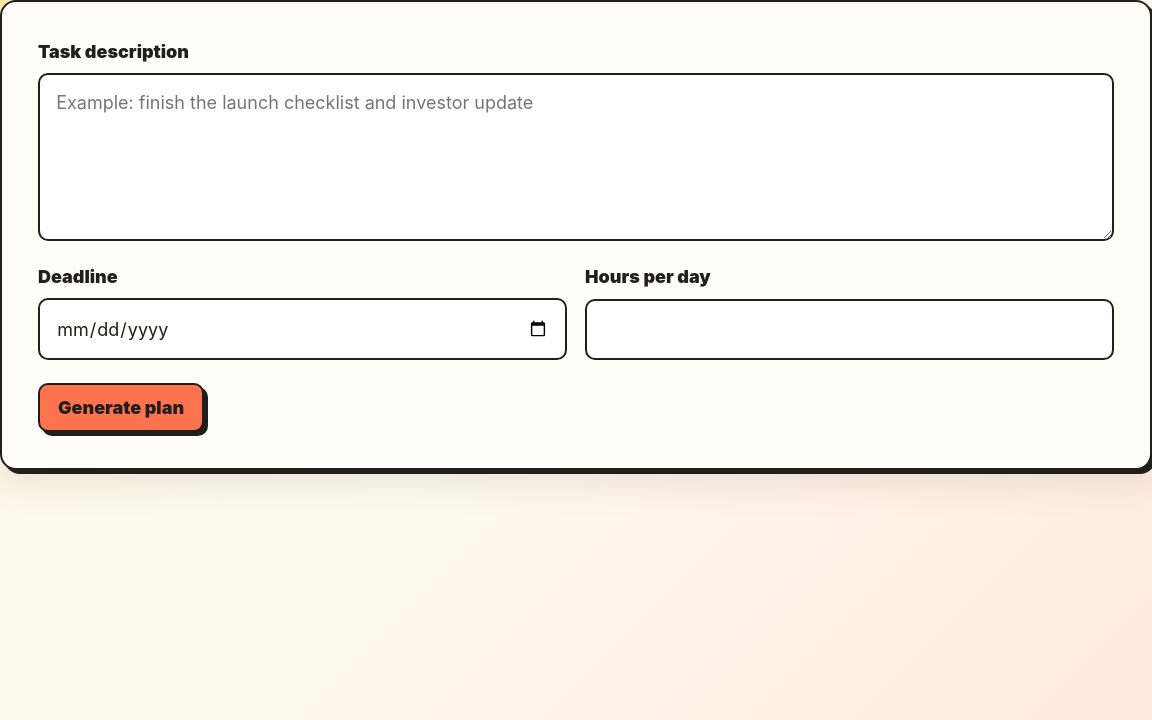
Test: TaskForm › lets users stop generation without clearing their input
Type "Ship the Deadline AI MVP" into the text box labelled "Task description" at (576, 157), box left=38, top=73, right=1114, bottom=241
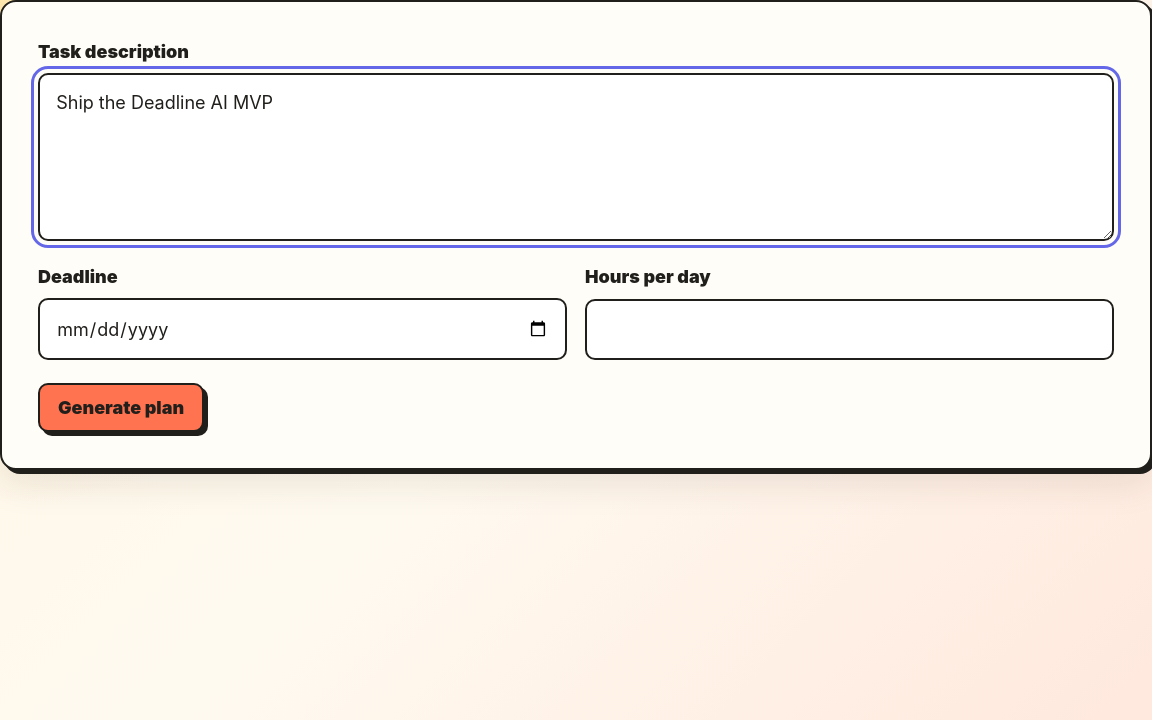
Type "2026-06-24" into the date field labelled "Deadline" at (302, 329), box left=38, top=298, right=567, bottom=360
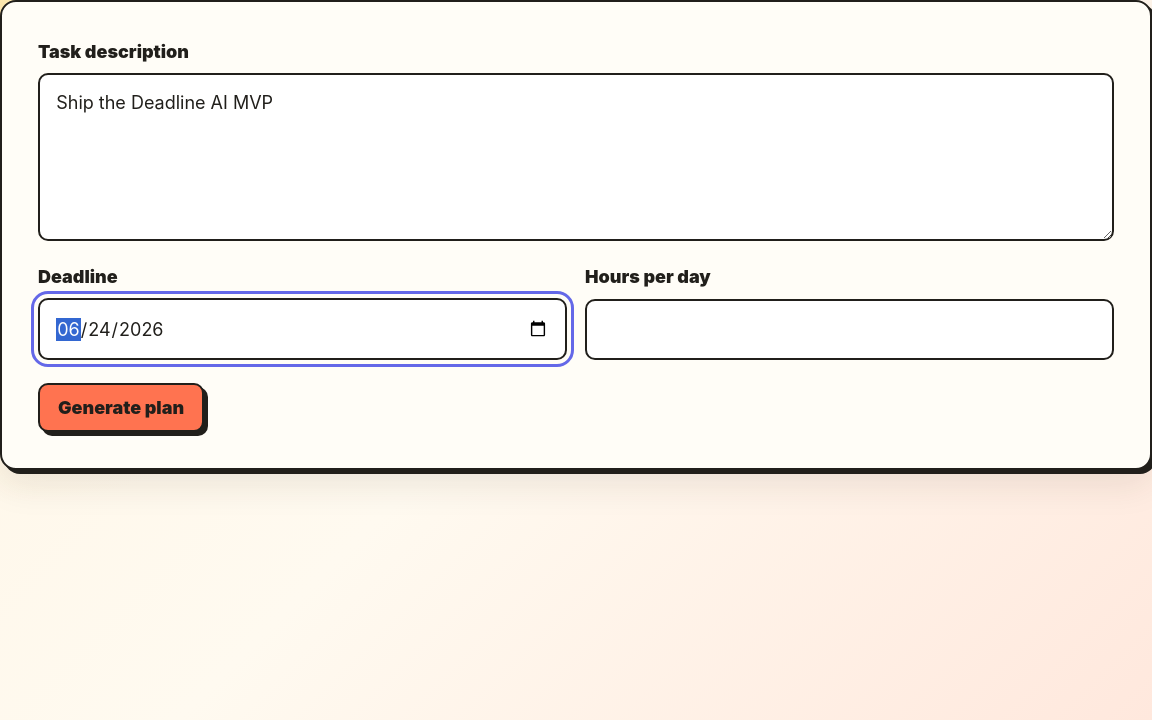
Type "2" into the number field labelled "Hours per day" at (850, 330), box left=585, top=300, right=1114, bottom=360
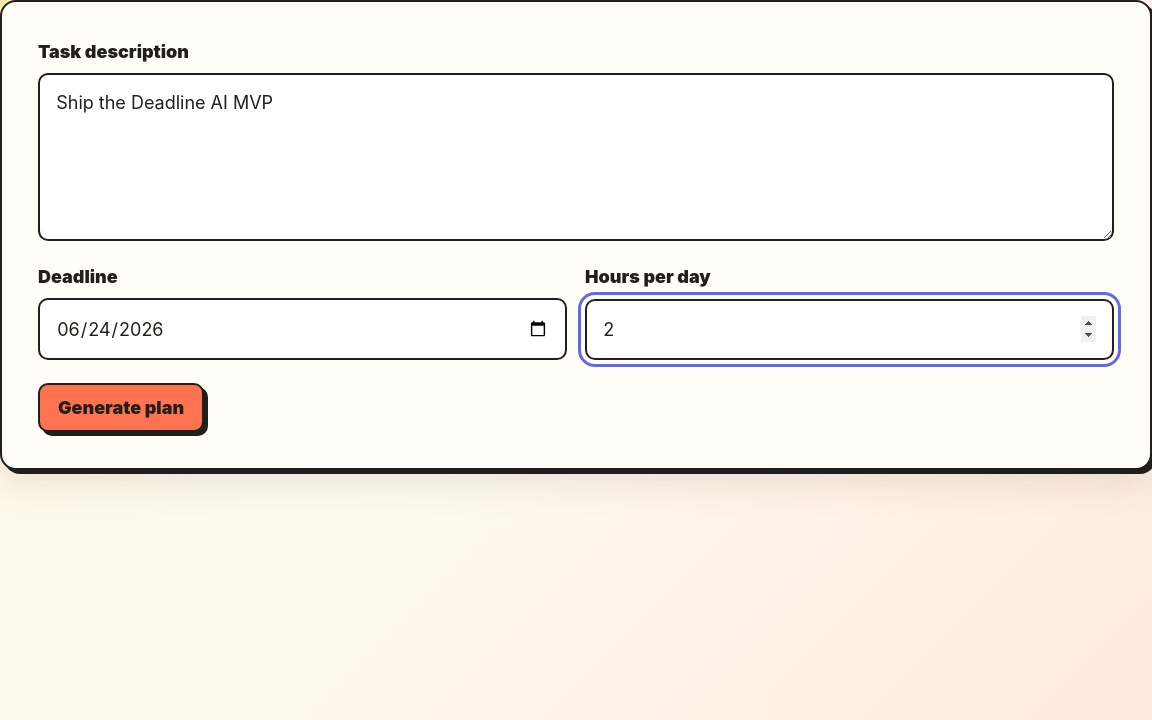
Click the button "Generate plan" at (121, 408), box left=38, top=383, right=204, bottom=432
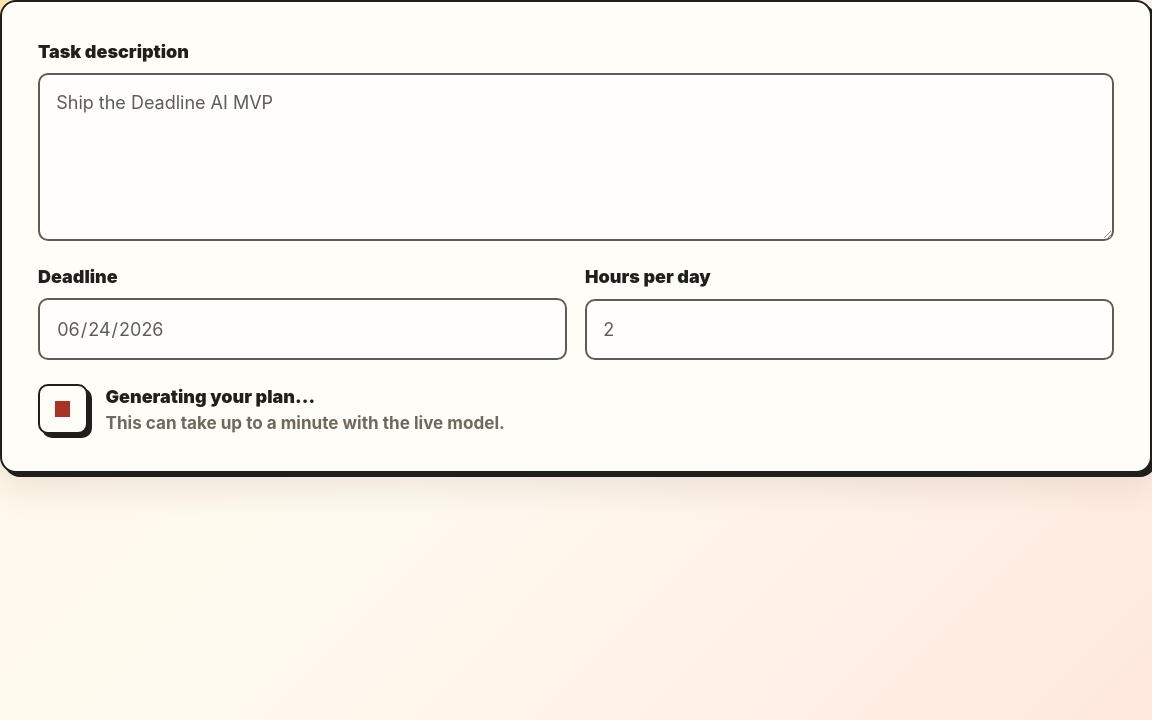
Expected: the button named "stop generation" is shown
Expected: the text "Generating your plan…" is shown, left=106, top=386, right=315, bottom=407
Expected: the text "This can take up to a minute with the live model." is shown, left=106, top=410, right=505, bottom=435
Click the button named "stop generation" at (63, 409), box left=38, top=384, right=88, bottom=434
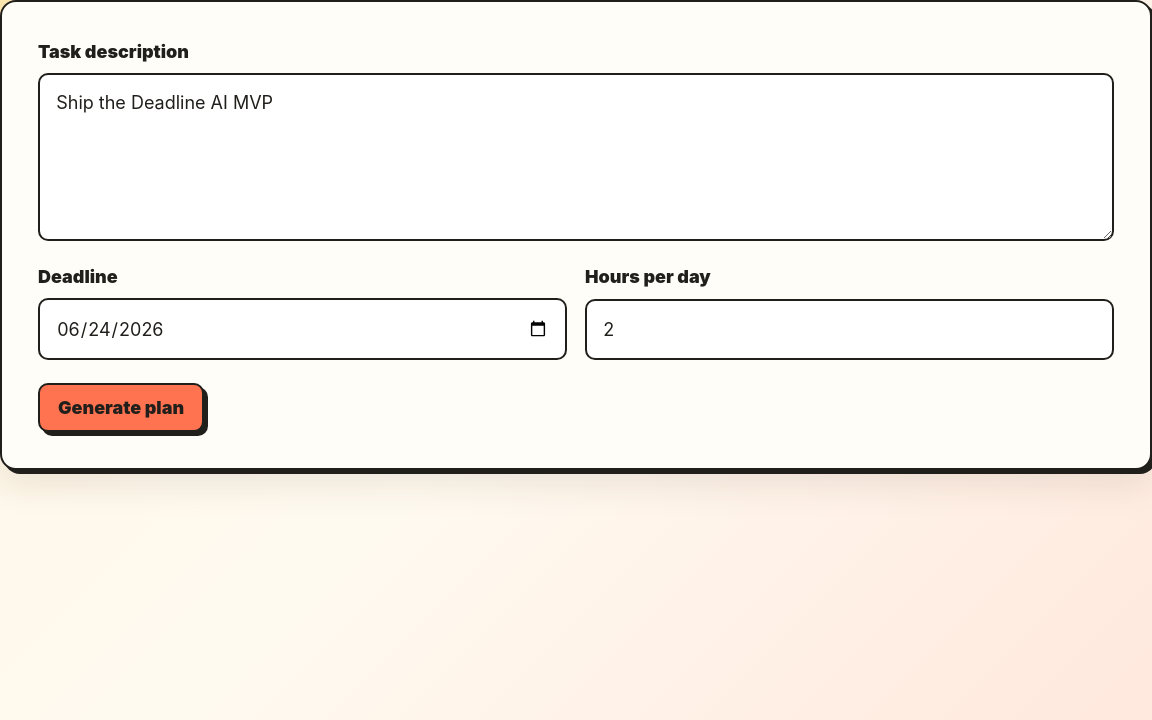
Expected: the button "Generate plan" is shown, left=38, top=383, right=204, bottom=432
